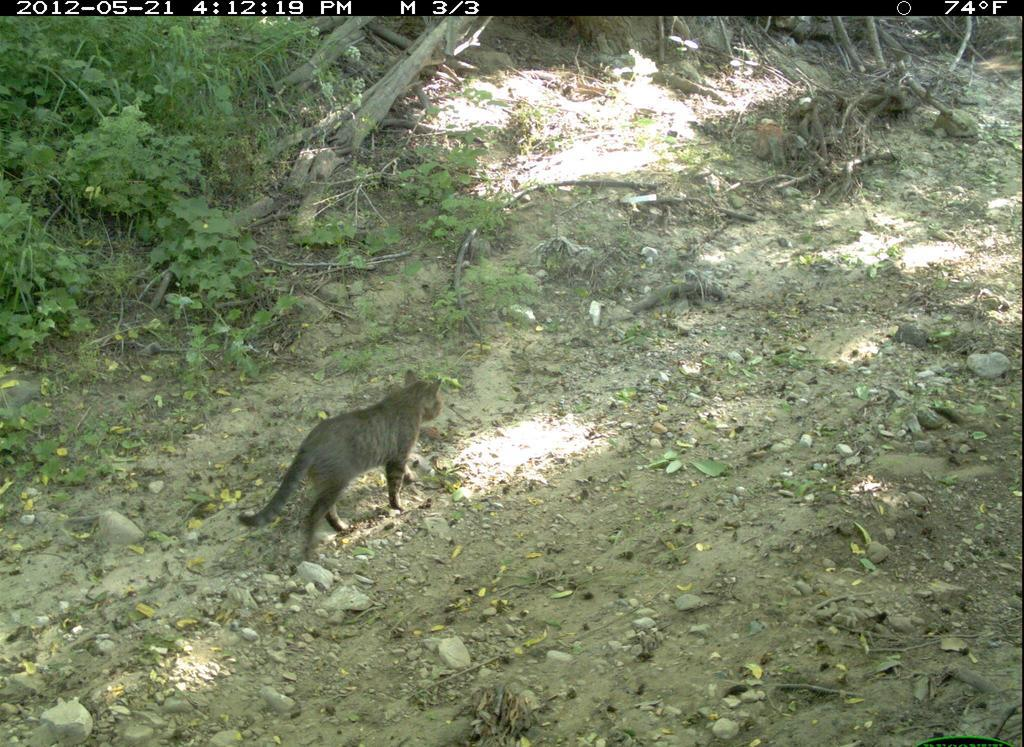cat: (239, 361, 450, 560)
